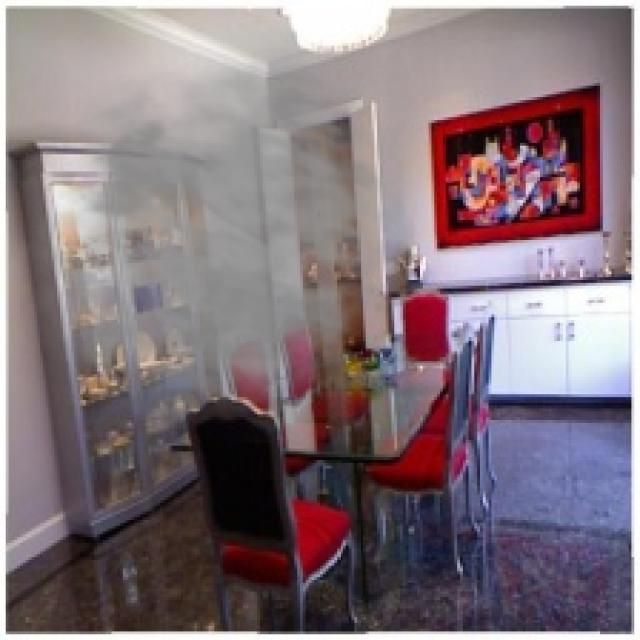smoke: (3, 48, 420, 443)
